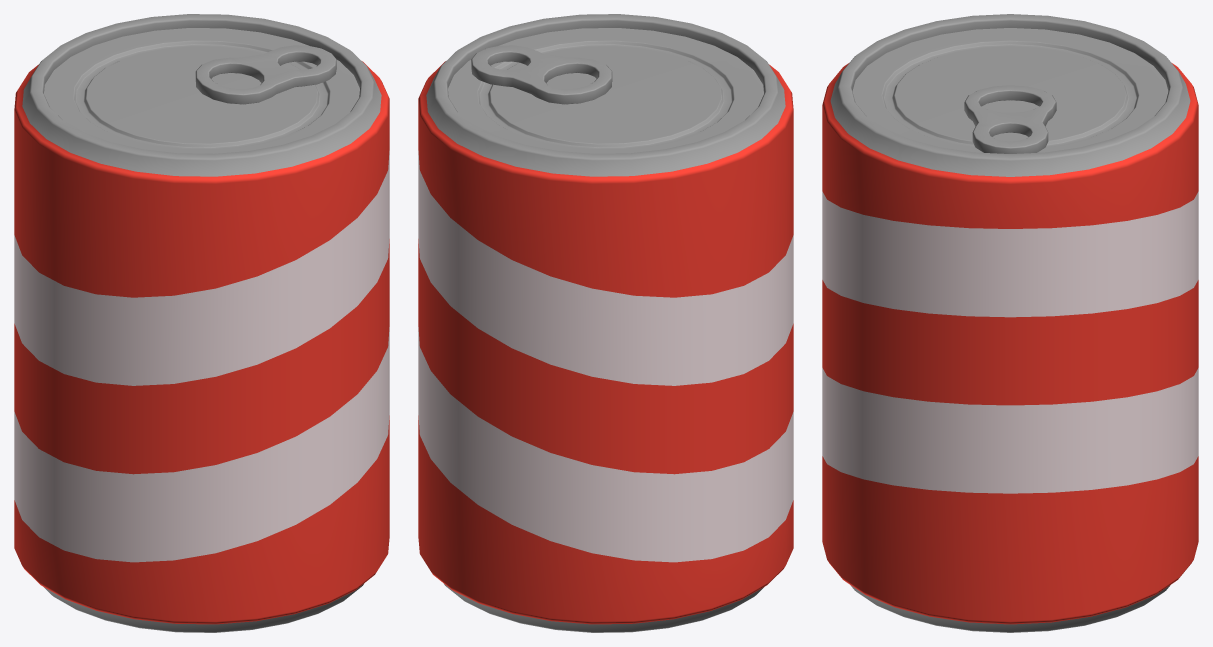
File: soda.glb
3 views of the same model, side by side, from view 1: azimuth 30°, elevation 25°; view 2: azimuth 150°, elevation 25°; view 3: azimuth 270°, elevation 25° (orthographic).
Visible parts, largest first — view 1: Soda_Can_1; view 2: Soda_Can_1; view 3: Soda_Can_1.
Part boxes in pixels (left/top/right/bottom): Soda_Can_1: left=14, top=14, right=389, bottom=632; Soda_Can_1: left=418, top=14, right=793, bottom=632; Soda_Can_1: left=822, top=14, right=1198, bottom=632.
Size of the model in its own units: 0.1096 by 0.1531 by 0.1096.
Materials: 1 (1 with a texture image).
